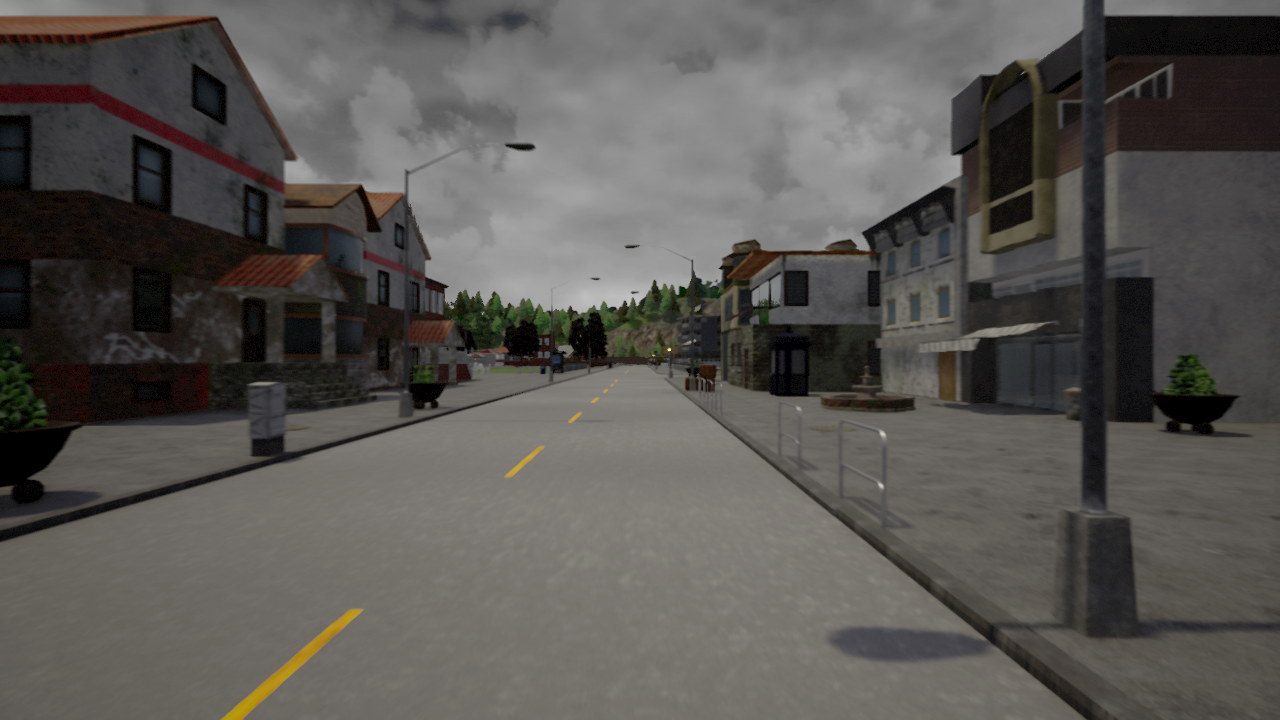yellow: (667, 343, 672, 355)
